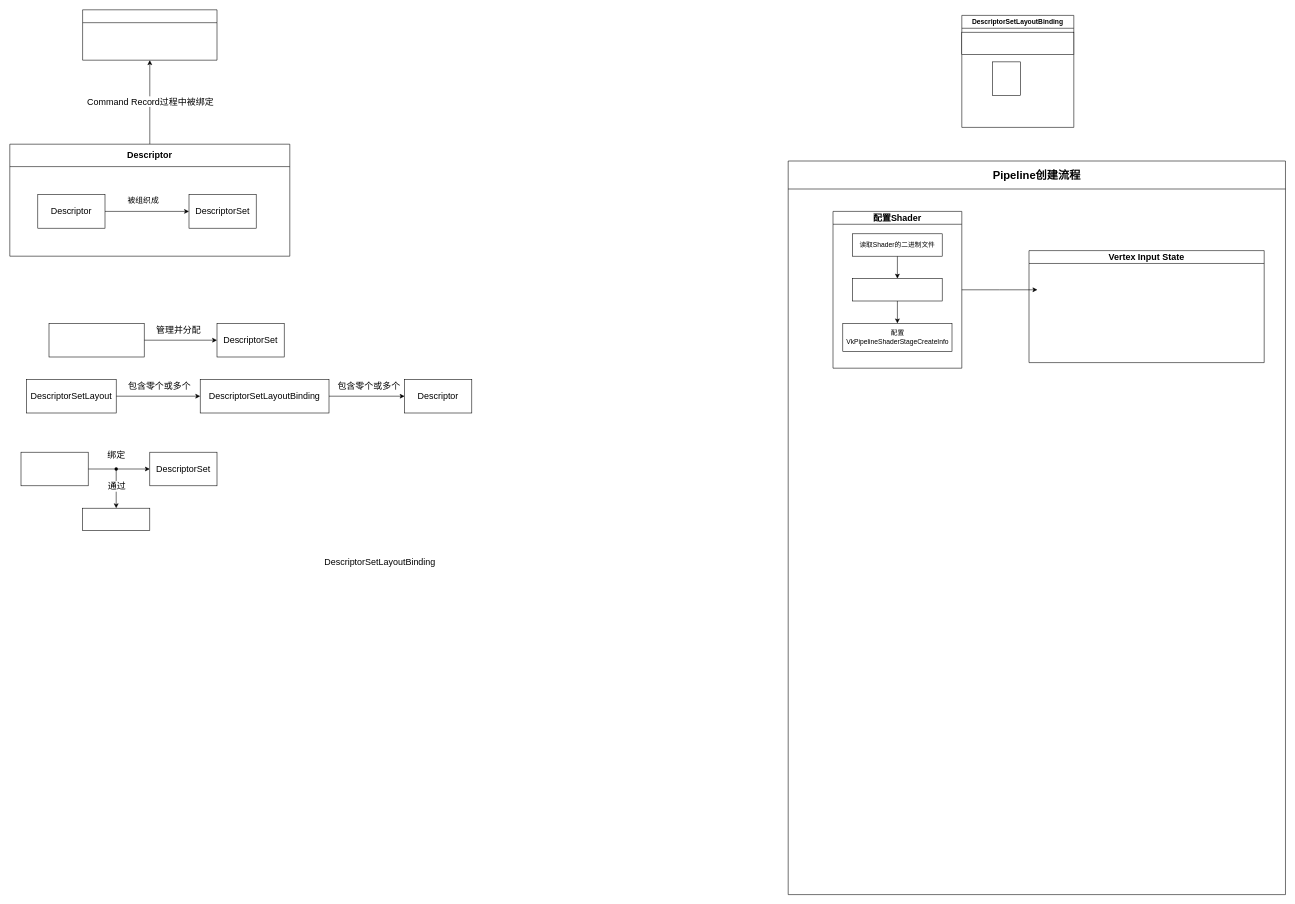
Some shapes in this 1295 by 904 pixel diagram are drawn without their labels. The centre of each missing label's shape, as x and y in pixels:
binding 索引位置，记录类似于一块独立的空间，其内部含有我们所需的变量: pixel 1017 43
Command Record: pixel 149 34
Pipeline: pixel 54 469
PipelineLayout: pixel 116 519
Text: pixel 1006 78
VkDescriptorPool: pixel 96 340
生成VkShaderModule对象: pixel 897 289
